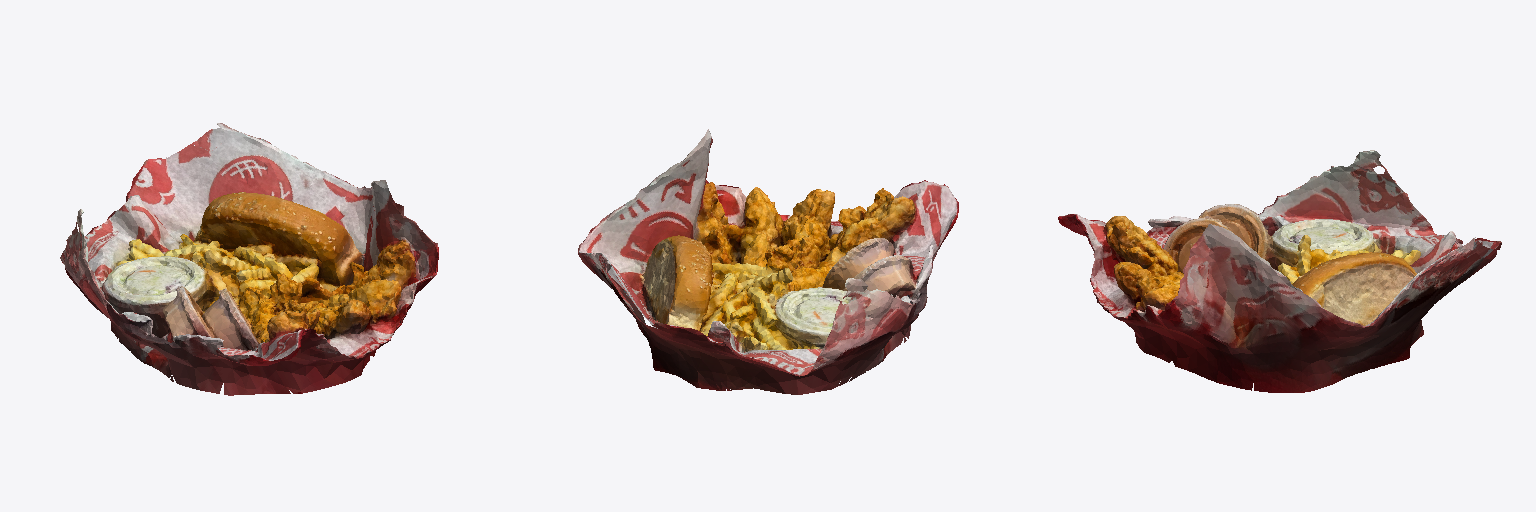
3 renders of one model, left to right at view 1: azimuth 30°, elevation 25°; view 2: azimuth 150°, elevation 25°; view 3: azimuth 270°, elevation 25°, orthographic.
Visible parts, largest first — view 1: Object; view 2: Object; view 3: Object.
Boxes of the visible parts, x1=… form: Object: x1=60, y1=123, x2=438, y2=395; Object: x1=578, y1=129, x2=958, y2=394; Object: x1=1058, y1=150, x2=1501, y2=392.
Bounding box in the file's own units: 0.2492 × 0.1252 × 0.3205.
Materials: 1 (1 with a texture image).